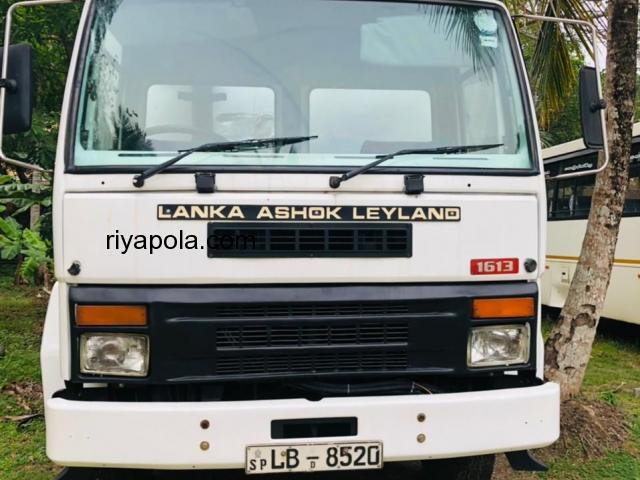license-plate: (245, 444, 382, 469)
